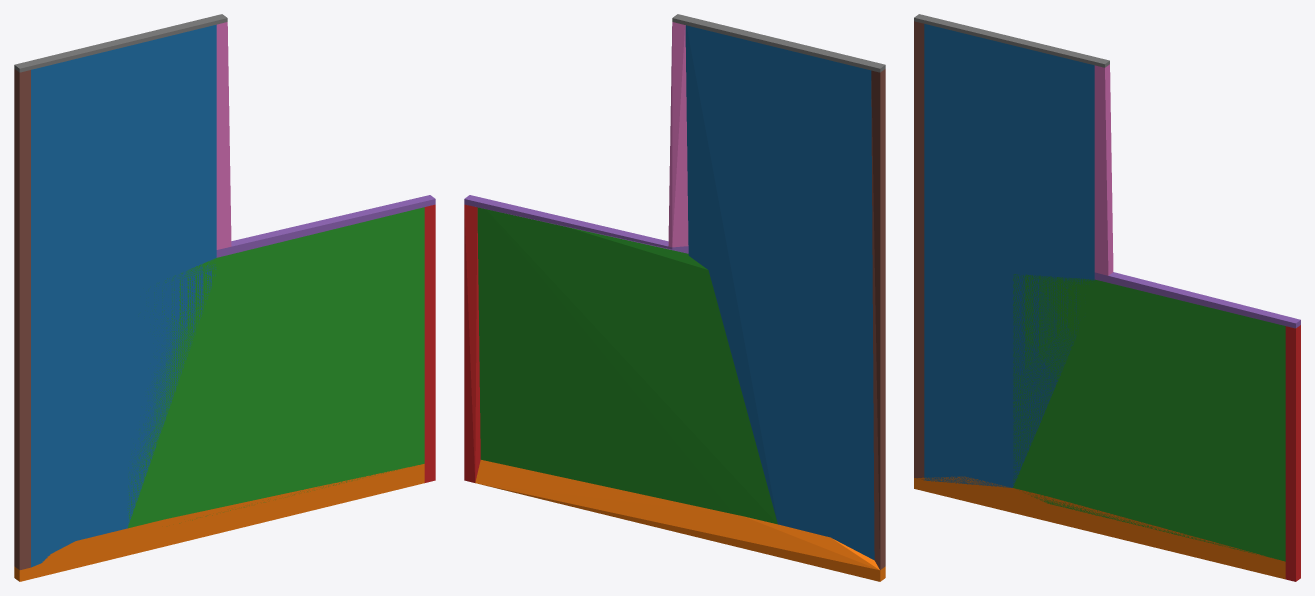
The model's file is Floor_cvx.obj.
3 views of the same model, side by side, from view 1: azimuth 30°, elevation 25°; view 2: azimuth 150°, elevation 25°; view 3: azimuth 330°, elevation 25° (orthographic). The views are drawn at different scales.
Visible parts, largest first — view 1: scenes/apartment_0000_coacd/output/Unknown/Floor/cvx/Floor000, scenes/apartment_0000_coacd/output/Unknown/Floor/cvx/Floor002, scenes/apartment_0000_coacd/output/Unknown/Floor/cvx/Floor001, scenes/apartment_0000_coacd/output/Unknown/Floor/cvx/Floor005, scenes/apartment_0000_coacd/output/Unknown/Floor/cvx/Floor003, scenes/apartment_0000_coacd/output/Unknown/Floor/cvx/Floor006, scenes/apartment_0000_coacd/output/Unknown/Floor/cvx/Floor004, scenes/apartment_0000_coacd/output/Unknown/Floor/cvx/Floor007; view 2: scenes/apartment_0000_coacd/output/Unknown/Floor/cvx/Floor000, scenes/apartment_0000_coacd/output/Unknown/Floor/cvx/Floor002, scenes/apartment_0000_coacd/output/Unknown/Floor/cvx/Floor001, scenes/apartment_0000_coacd/output/Unknown/Floor/cvx/Floor005, scenes/apartment_0000_coacd/output/Unknown/Floor/cvx/Floor003, scenes/apartment_0000_coacd/output/Unknown/Floor/cvx/Floor006, scenes/apartment_0000_coacd/output/Unknown/Floor/cvx/Floor004, scenes/apartment_0000_coacd/output/Unknown/Floor/cvx/Floor007; view 3: scenes/apartment_0000_coacd/output/Unknown/Floor/cvx/Floor000, scenes/apartment_0000_coacd/output/Unknown/Floor/cvx/Floor002, scenes/apartment_0000_coacd/output/Unknown/Floor/cvx/Floor001, scenes/apartment_0000_coacd/output/Unknown/Floor/cvx/Floor005, scenes/apartment_0000_coacd/output/Unknown/Floor/cvx/Floor003, scenes/apartment_0000_coacd/output/Unknown/Floor/cvx/Floor006, scenes/apartment_0000_coacd/output/Unknown/Floor/cvx/Floor004, scenes/apartment_0000_coacd/output/Unknown/Floor/cvx/Floor007.
Part boxes in pixels (x1,y1,x2,y2): scenes/apartment_0000_coacd/output/Unknown/Floor/cvx/Floor000: (31, 24, 216, 567); scenes/apartment_0000_coacd/output/Unknown/Floor/cvx/Floor002: (127, 207, 424, 528); scenes/apartment_0000_coacd/output/Unknown/Floor/cvx/Floor001: (14, 464, 424, 581); scenes/apartment_0000_coacd/output/Unknown/Floor/cvx/Floor005: (14, 69, 30, 569); scenes/apartment_0000_coacd/output/Unknown/Floor/cvx/Floor003: (424, 204, 435, 482); scenes/apartment_0000_coacd/output/Unknown/Floor/cvx/Floor006: (216, 22, 231, 249); scenes/apartment_0000_coacd/output/Unknown/Floor/cvx/Floor004: (216, 195, 435, 257); scenes/apartment_0000_coacd/output/Unknown/Floor/cvx/Floor007: (14, 14, 227, 72); scenes/apartment_0000_coacd/output/Unknown/Floor/cvx/Floor000: (685, 25, 874, 560); scenes/apartment_0000_coacd/output/Unknown/Floor/cvx/Floor002: (477, 207, 777, 524); scenes/apartment_0000_coacd/output/Unknown/Floor/cvx/Floor001: (475, 460, 885, 581); scenes/apartment_0000_coacd/output/Unknown/Floor/cvx/Floor005: (871, 69, 885, 569); scenes/apartment_0000_coacd/output/Unknown/Floor/cvx/Floor003: (464, 204, 480, 482); scenes/apartment_0000_coacd/output/Unknown/Floor/cvx/Floor006: (668, 22, 688, 247); scenes/apartment_0000_coacd/output/Unknown/Floor/cvx/Floor004: (464, 195, 688, 253); scenes/apartment_0000_coacd/output/Unknown/Floor/cvx/Floor007: (672, 14, 885, 72); scenes/apartment_0000_coacd/output/Unknown/Floor/cvx/Floor000: (924, 24, 1094, 487); scenes/apartment_0000_coacd/output/Unknown/Floor/cvx/Floor002: (1013, 274, 1285, 561); scenes/apartment_0000_coacd/output/Unknown/Floor/cvx/Floor001: (914, 476, 1285, 579); scenes/apartment_0000_coacd/output/Unknown/Floor/cvx/Floor005: (914, 21, 924, 480); scenes/apartment_0000_coacd/output/Unknown/Floor/cvx/Floor003: (1285, 325, 1300, 581); scenes/apartment_0000_coacd/output/Unknown/Floor/cvx/Floor006: (1094, 64, 1113, 275); scenes/apartment_0000_coacd/output/Unknown/Floor/cvx/Floor004: (1094, 272, 1300, 328); scenes/apartment_0000_coacd/output/Unknown/Floor/cvx/Floor007: (914, 14, 1109, 67).
Bounding box in the file's own units: 11.8 × 13.91 × 0.2711.
